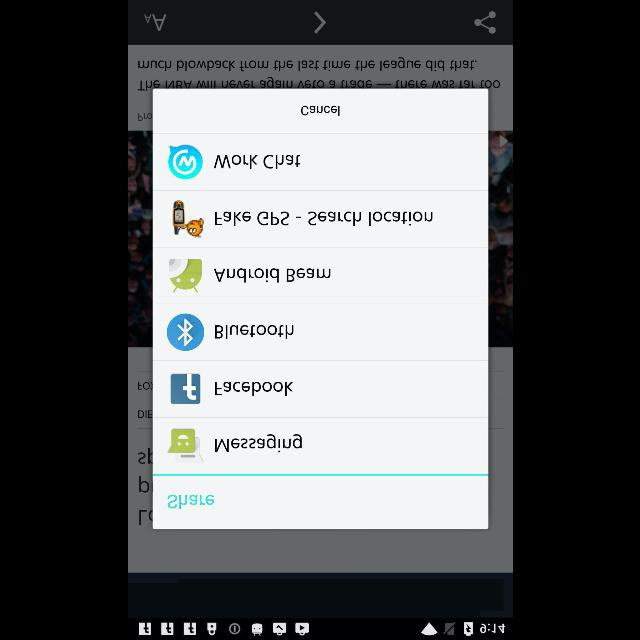icon: (166, 314, 204, 351), (170, 374, 200, 404), (473, 11, 495, 34), (312, 12, 326, 34)
image: (168, 144, 202, 180), (172, 200, 204, 238), (168, 259, 202, 293), (167, 430, 203, 462), (144, 14, 166, 31)
panel: (152, 89, 488, 529)
text: (214, 211, 432, 225), (212, 268, 330, 282), (215, 434, 302, 452), (214, 324, 292, 340), (212, 155, 300, 169), (214, 382, 292, 396), (166, 495, 214, 509)
textbutton: (152, 89, 488, 133)
uppertaskbar: (128, 617, 512, 639)
